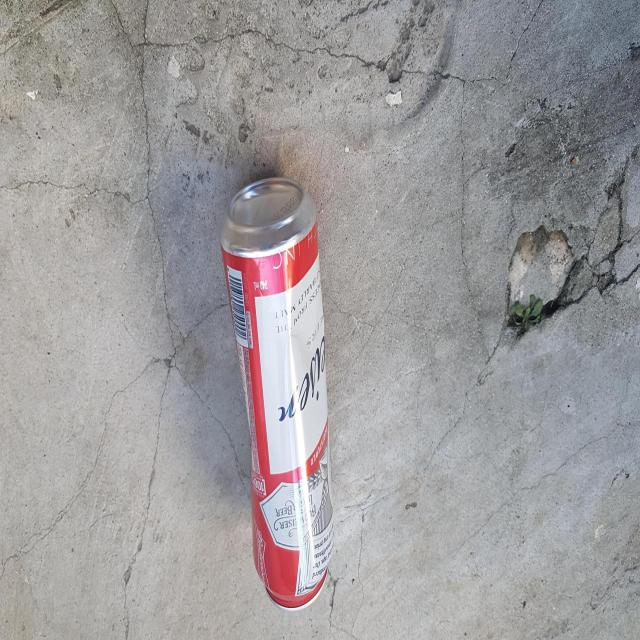can: (221, 177, 333, 608)
